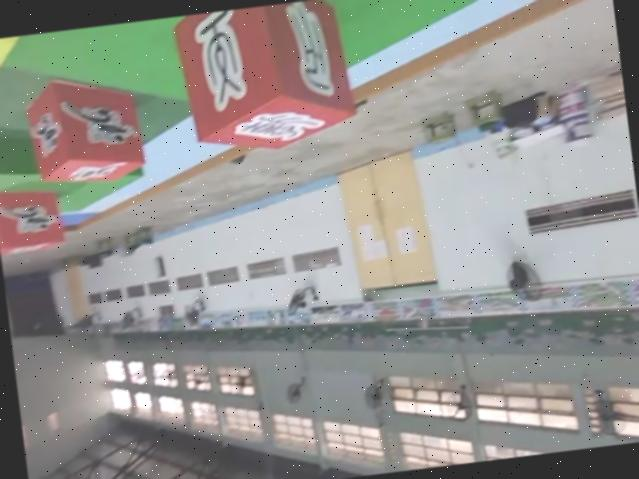R1: (24, 65, 147, 190), (0, 185, 67, 259)
R2 Fake: (168, 0, 362, 162)
